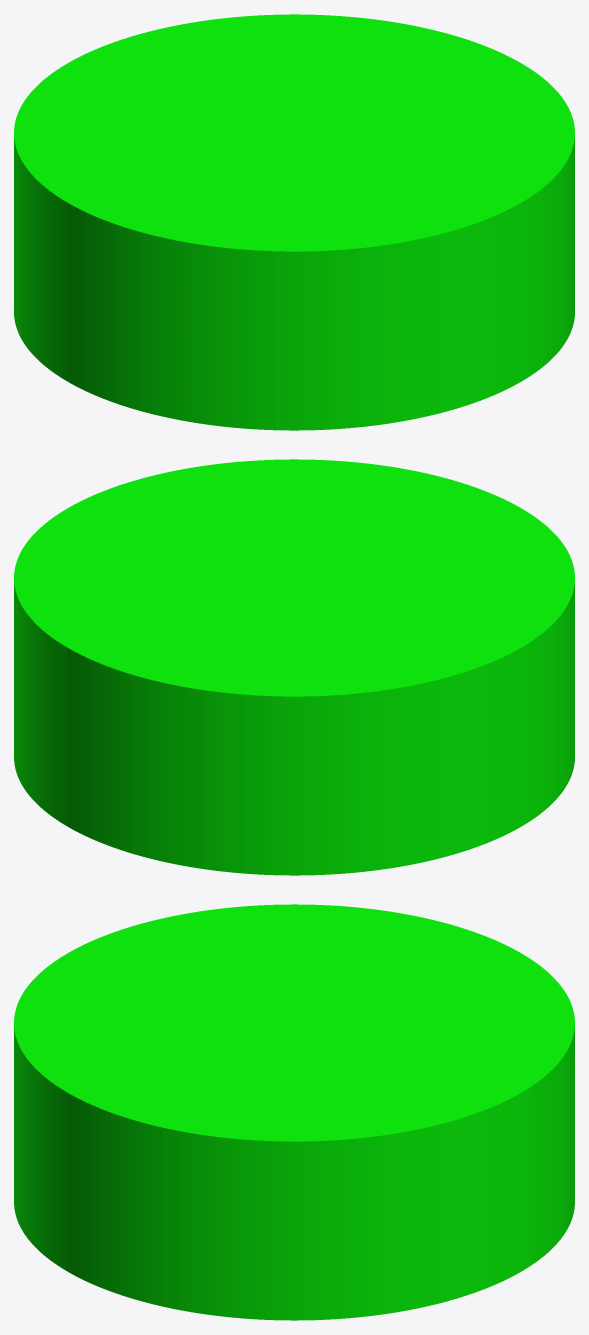
File: green_tin.glb
3 views of the same model, one above another, from view 1: azimuth 30°, elevation 25°; view 2: azimuth 150°, elevation 25°; view 3: azimuth 270°, elevation 25° (orthographic).
Parts seen in each view (by area): view 1: Cylinder; view 2: Cylinder; view 3: Cylinder.
Part boxes in pixels (x1,y1,x2,y2): Cylinder: (14, 14, 574, 430); Cylinder: (14, 459, 574, 875); Cylinder: (14, 904, 574, 1320).
Bounding box in the file's own units: 0.081 × 0.0285 × 0.081.
